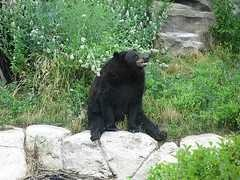bear: (56, 26, 184, 154)
